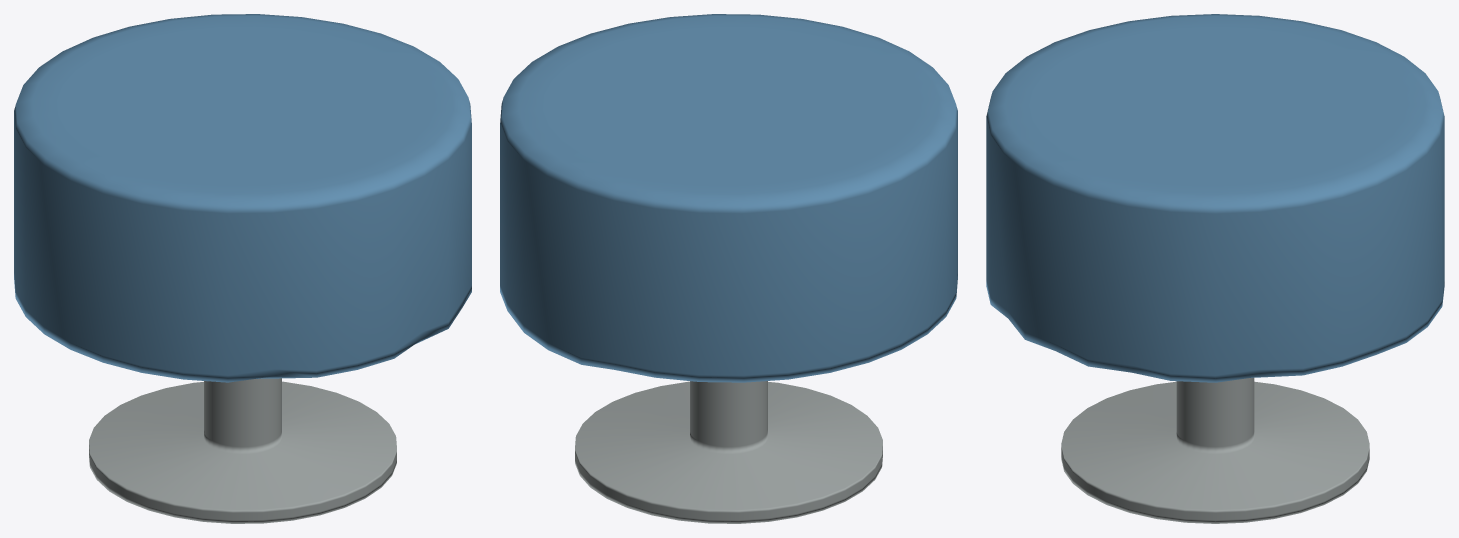
The model's file is round Table.fbx.
The picture shows the model from 3 angles, left to right: view 1: azimuth 30°, elevation 25°; view 2: azimuth 150°, elevation 25°; view 3: azimuth 270°, elevation 25°; orthographic projection.
Visible parts, largest first — view 1: Cylinder; view 2: Cylinder; view 3: Cylinder.
Boxes of the visible parts, bbox=[...] form: Cylinder: bbox=[14, 14, 471, 523]; Cylinder: bbox=[500, 14, 957, 523]; Cylinder: bbox=[986, 14, 1444, 523].
Size of the model in its own units: 200 by 170 by 200.
